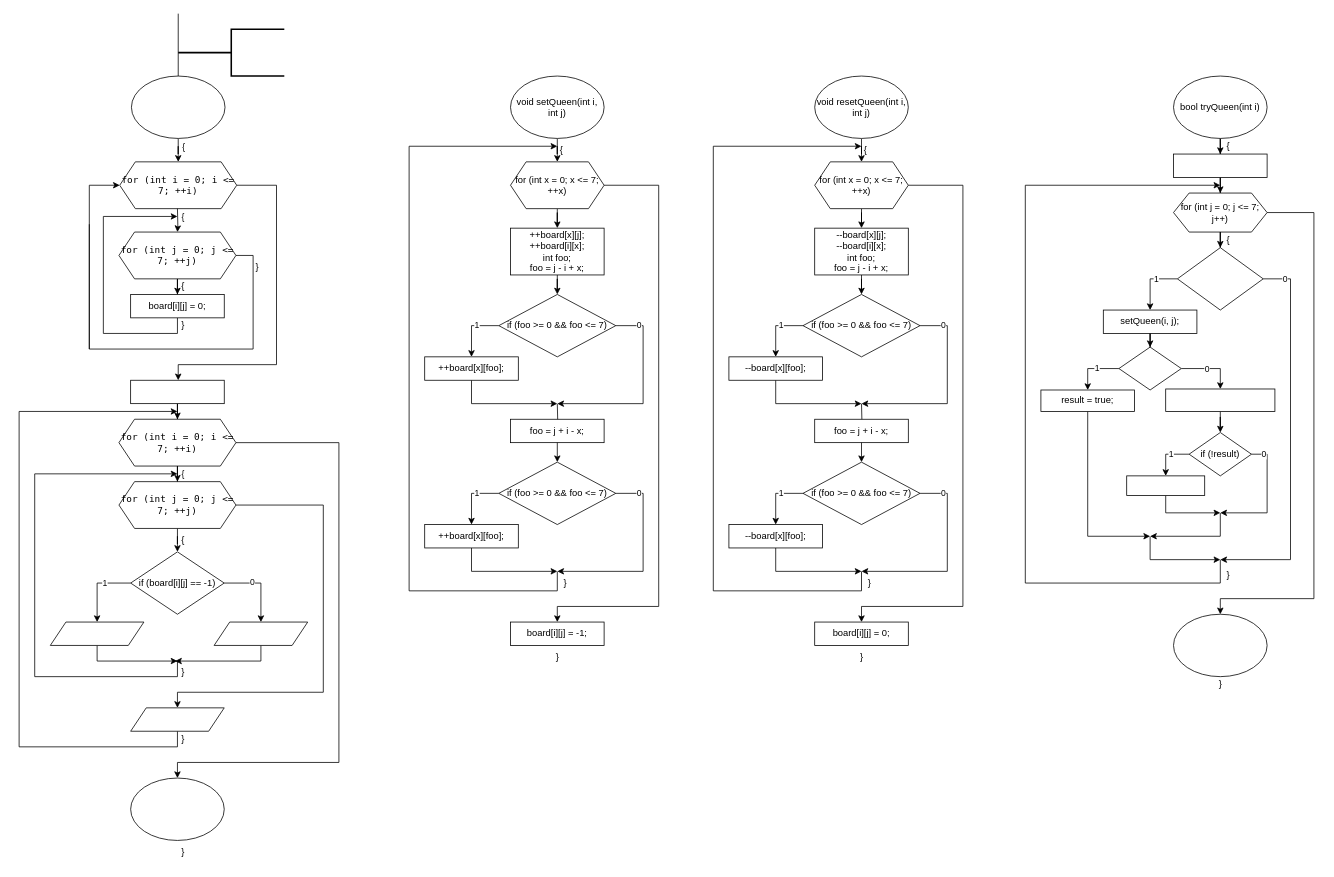
This 1334x877 diagram has some shape labels left out. The shapes that lost their labels are listed below. From the top down, each one's centre as x and y in pixels, then its label:
pixel 231 52: #include <iostream> using namespace std; int board[8][8];
pixel 178 106: int main()
pixel 1220 165: bool result = false;
pixel 1220 278: if (board[i][j] == 0)
pixel 1149 368: if (i == 7)
pixel 177 391: tryQueen(0);
pixel 1220 399: result = tryQueen(i + 1);
pixel 1165 485: resetQueen(i, j);
pixel 97 633: cout << "Q ";
pixel 260 633: cout << ". ";
pixel 1220 645: return result;
pixel 177 719: cout << "\n";
pixel 177 808: return 0;
